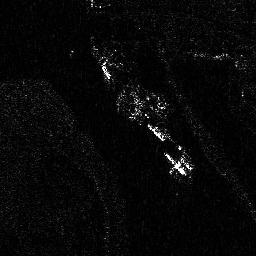ship: (165, 151, 188, 176), (146, 123, 166, 142), (99, 62, 113, 80)
